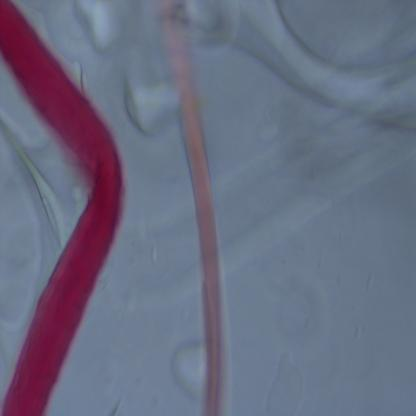Background material: (196, 2, 416, 138), (224, 125, 416, 274), (0, 136, 74, 240), (268, 272, 336, 348), (123, 79, 181, 137), (260, 352, 307, 415), (74, 0, 119, 63), (168, 333, 206, 401)
Hair textile: (0, 0, 126, 414)
Microfibre: (160, 1, 232, 414)
